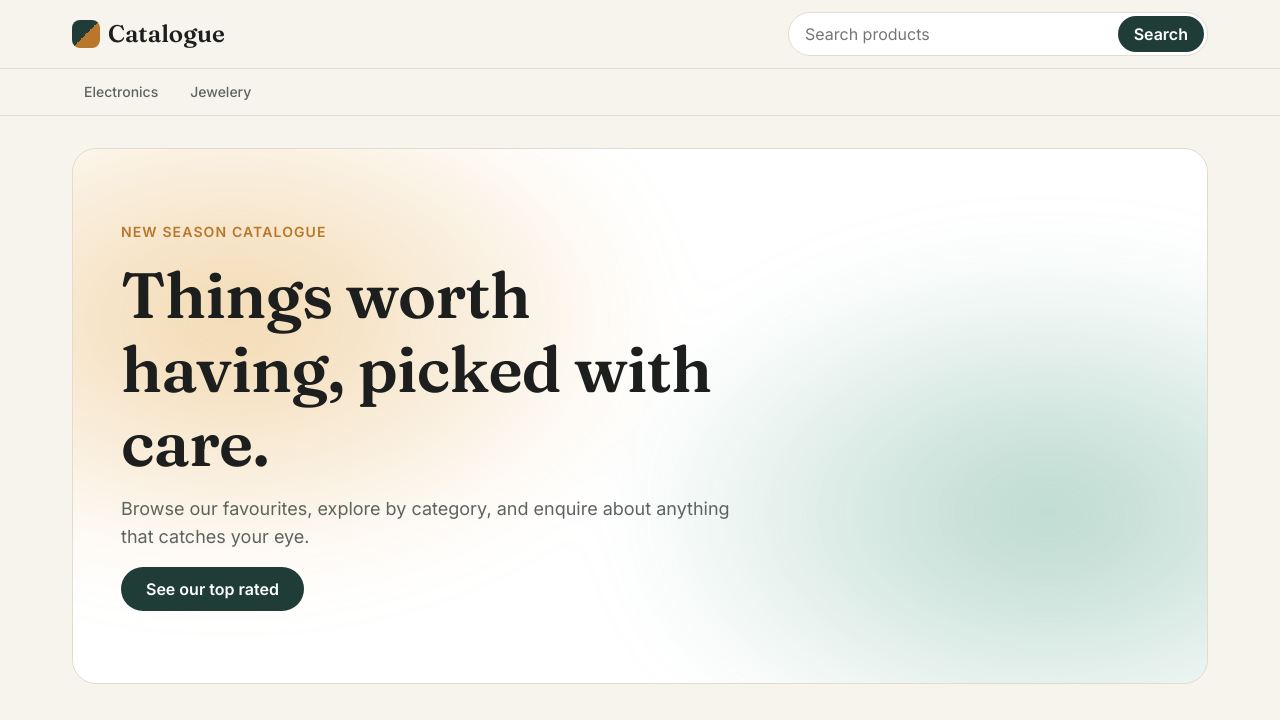
Search: only products matching the term › searches when the Search button is clicked
The image size is (1280, 720).
Type "drive" into the search field labelled "Search products" at point(952, 34), box [789,13,1115,55]
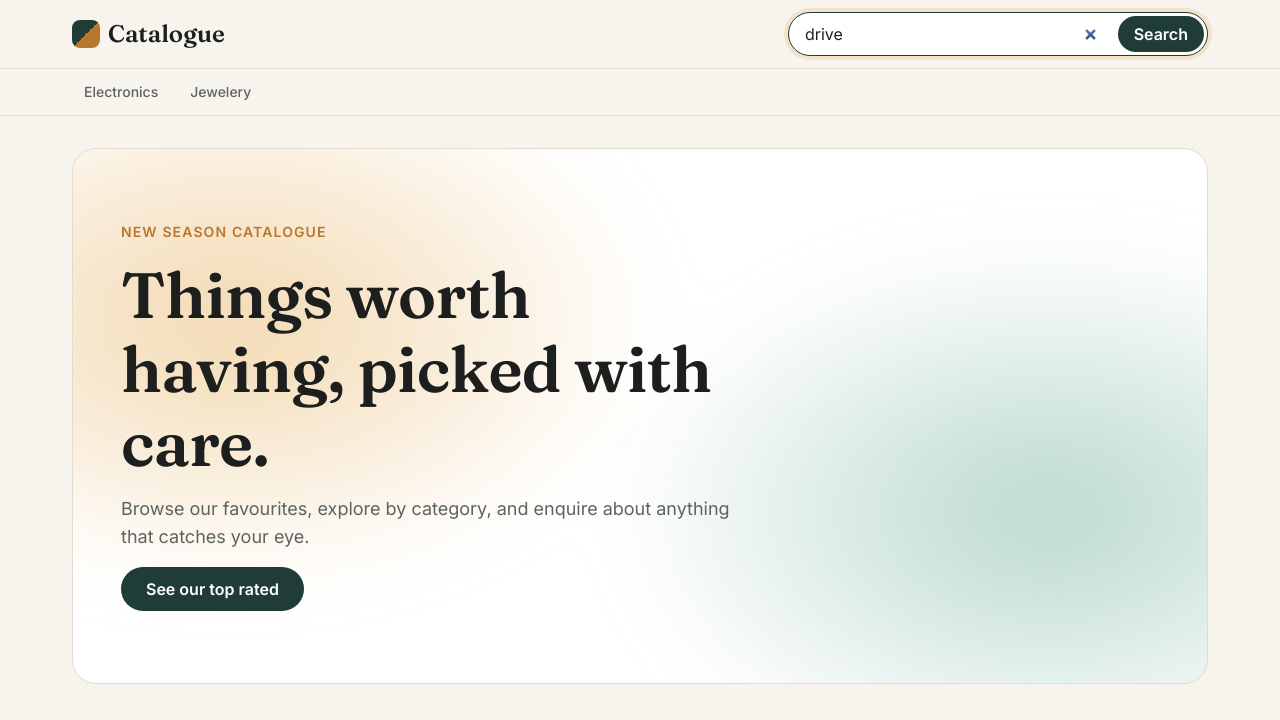
Click the button "Search" at point(1161, 34), box [1118,16,1204,52]
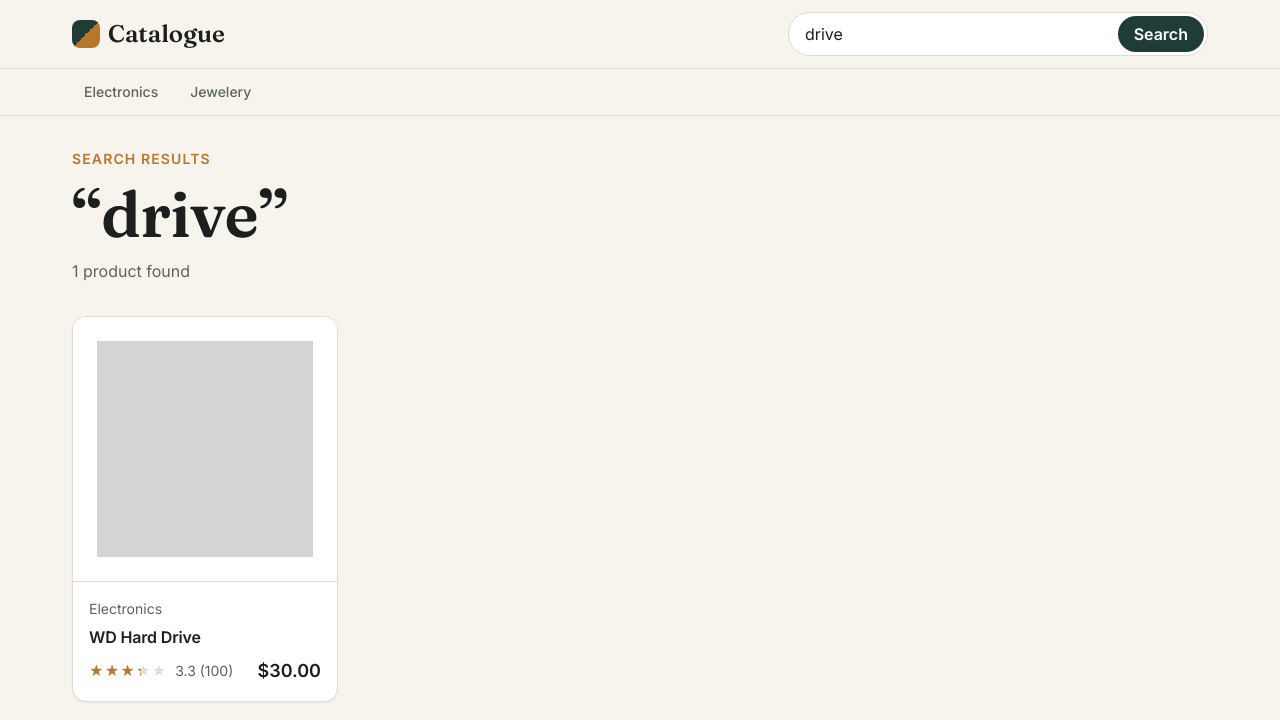
Expected: the links read "WD Hard Drive", in this order, [89,628,201,648]
Expected: the message reads "1 product found", [72,261,190,281]
